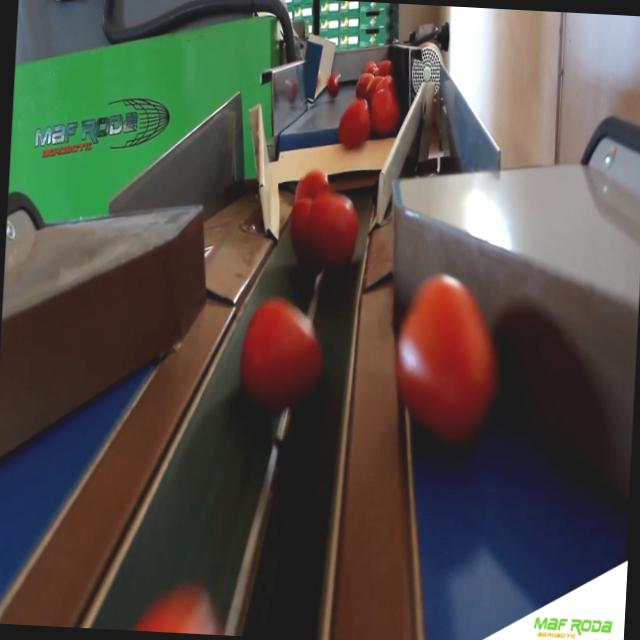Tomato: (389, 269, 500, 437), (236, 299, 327, 402), (287, 170, 363, 274), (131, 579, 220, 635), (370, 87, 404, 138), (336, 104, 370, 146), (324, 68, 345, 104), (376, 56, 394, 80), (356, 72, 372, 96)
